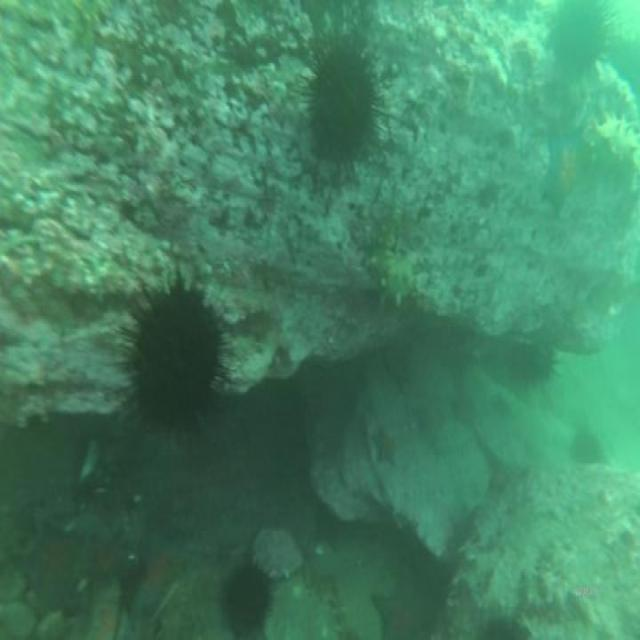echinus: (132, 289, 218, 433), (310, 52, 380, 169), (222, 564, 271, 639), (555, 0, 606, 71), (574, 426, 602, 464), (533, 348, 555, 384)
holothurian: (371, 220, 414, 304), (589, 109, 640, 175), (328, 584, 358, 640)
starfish: (32, 526, 81, 593), (140, 539, 192, 599), (541, 136, 583, 204), (372, 588, 418, 640), (92, 534, 130, 582), (374, 430, 396, 464)
